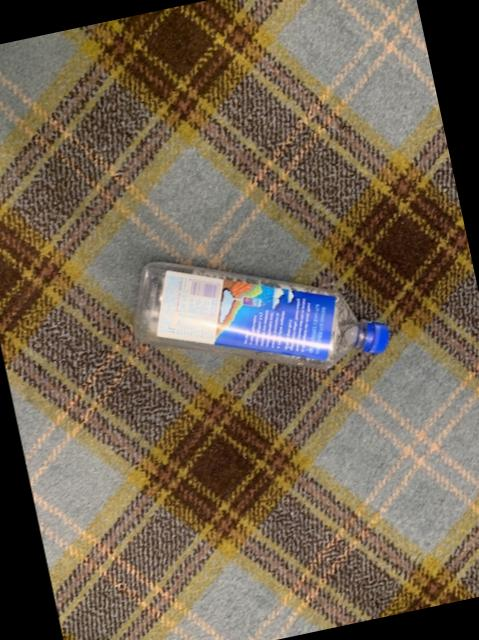plastic: (132, 263, 387, 370)
